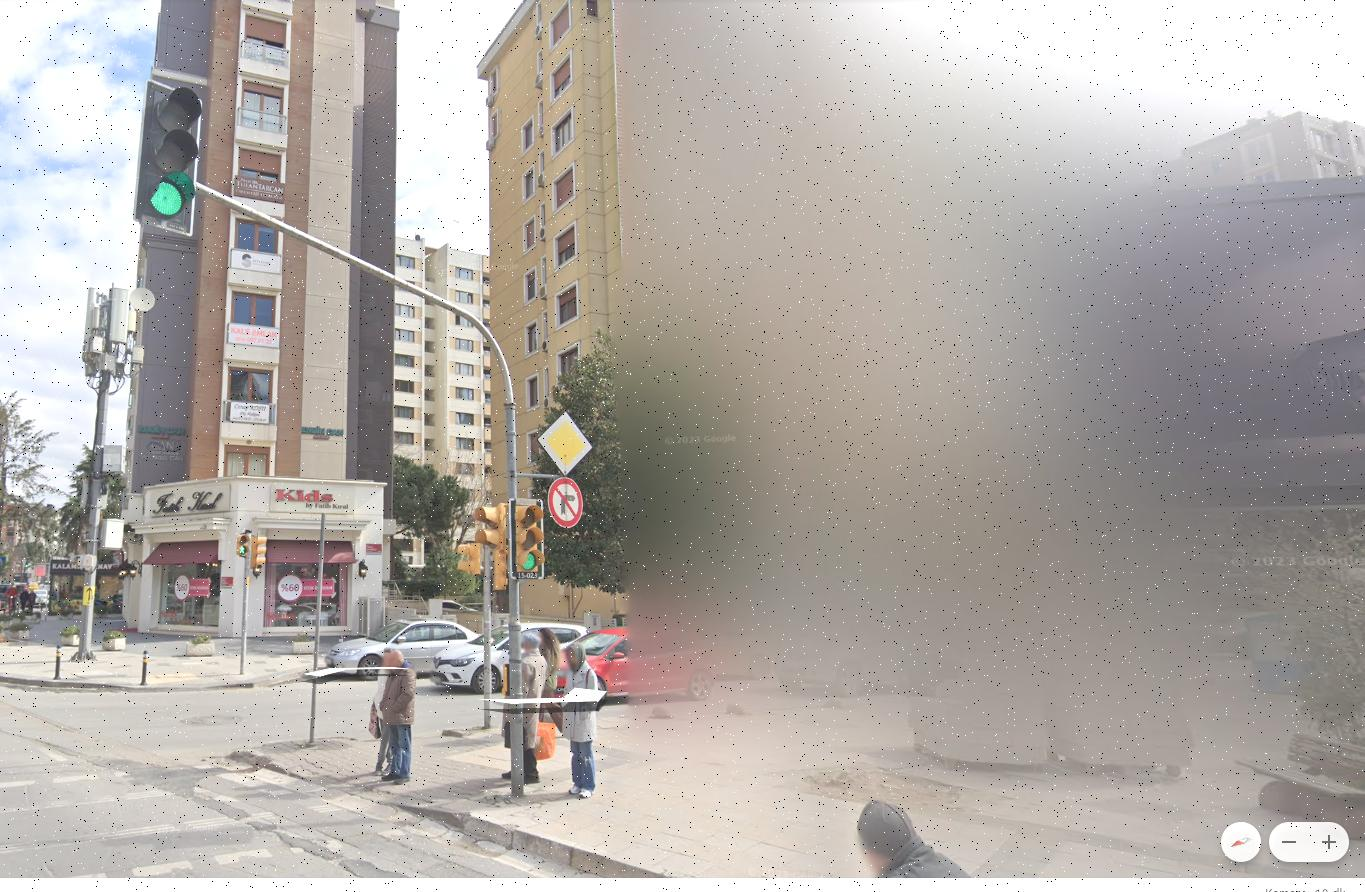greenlight: (134, 63, 201, 232), (507, 495, 541, 572)
rightturnsareforbidden: (545, 474, 586, 528)
